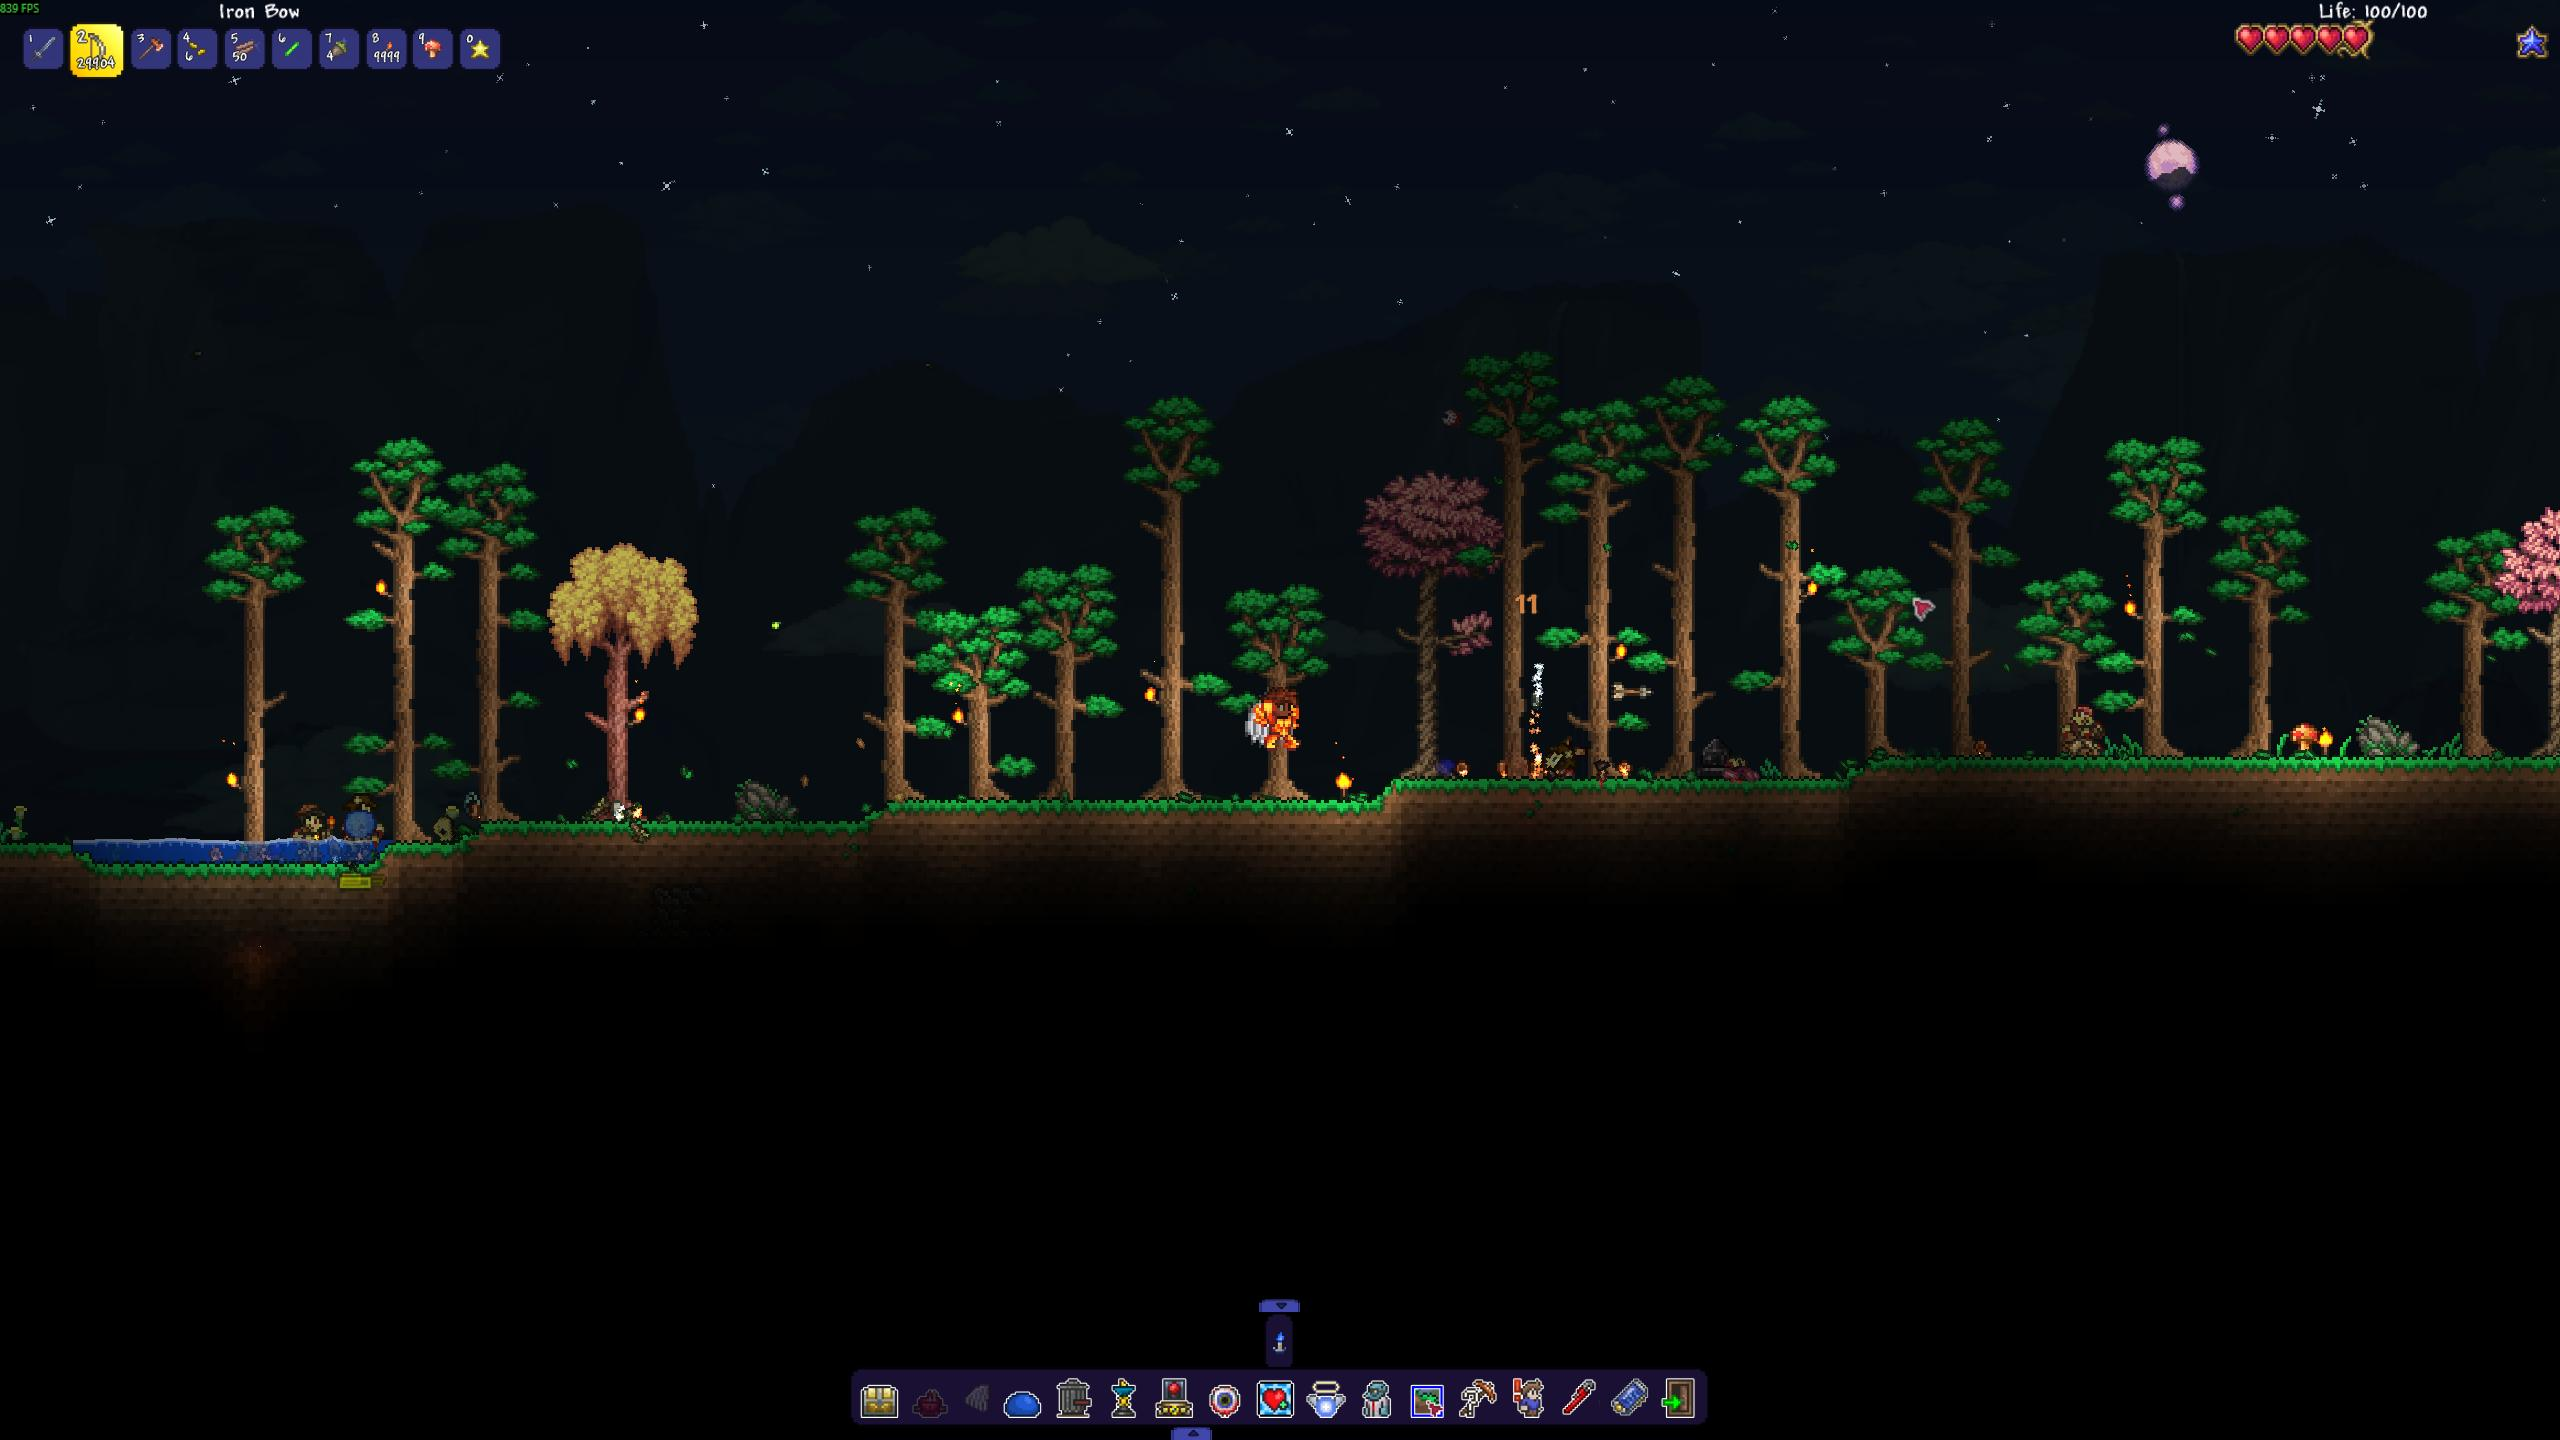Zombie: (336, 791, 385, 865), (2062, 698, 2108, 758), (292, 800, 336, 862)
